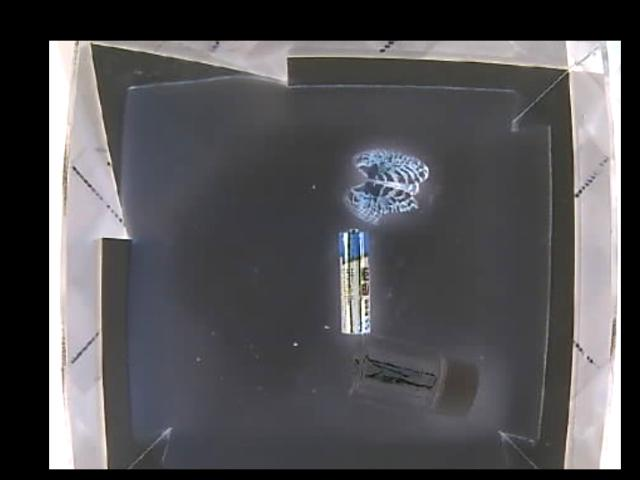Battery: (336, 229, 368, 332)
Bottle: (348, 339, 483, 419)
Shell: (345, 149, 432, 222)
